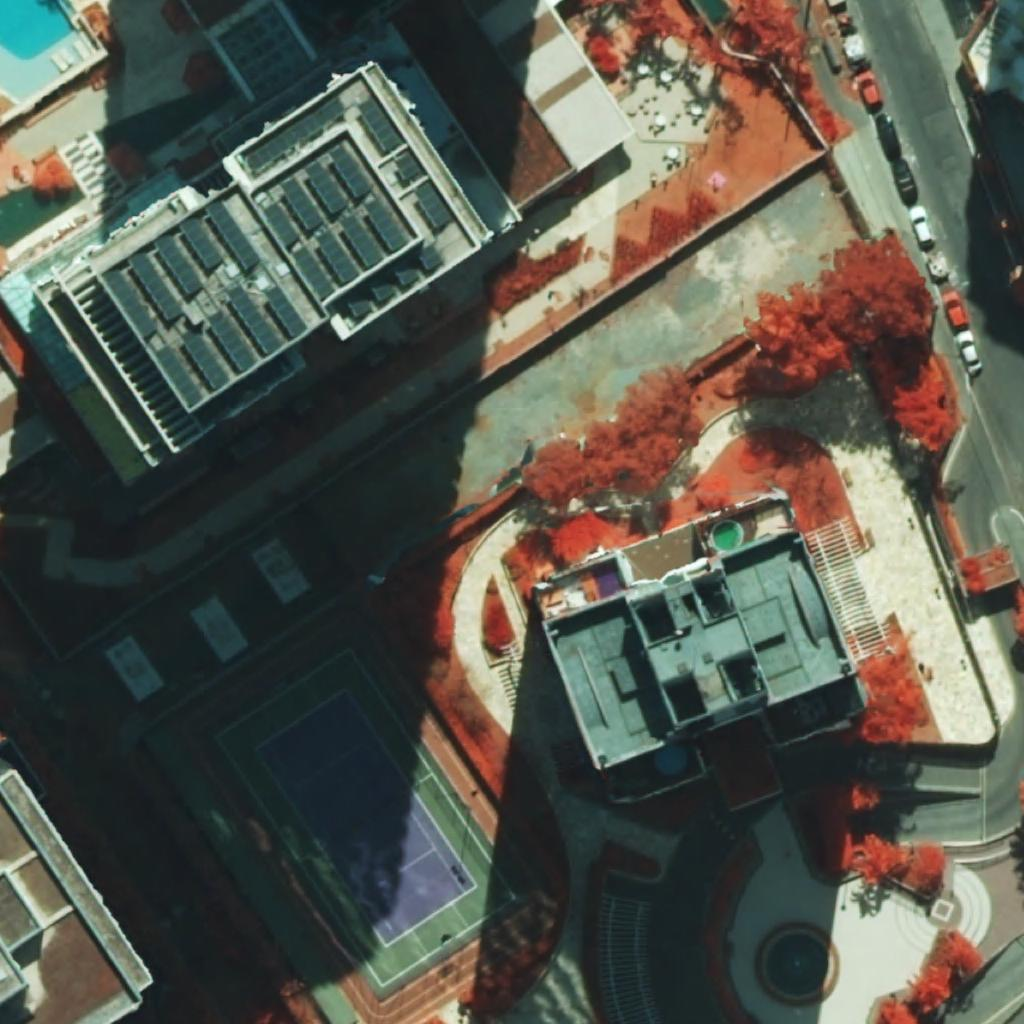pool: (0, 185, 86, 249), (0, 0, 77, 60), (713, 521, 742, 550)
